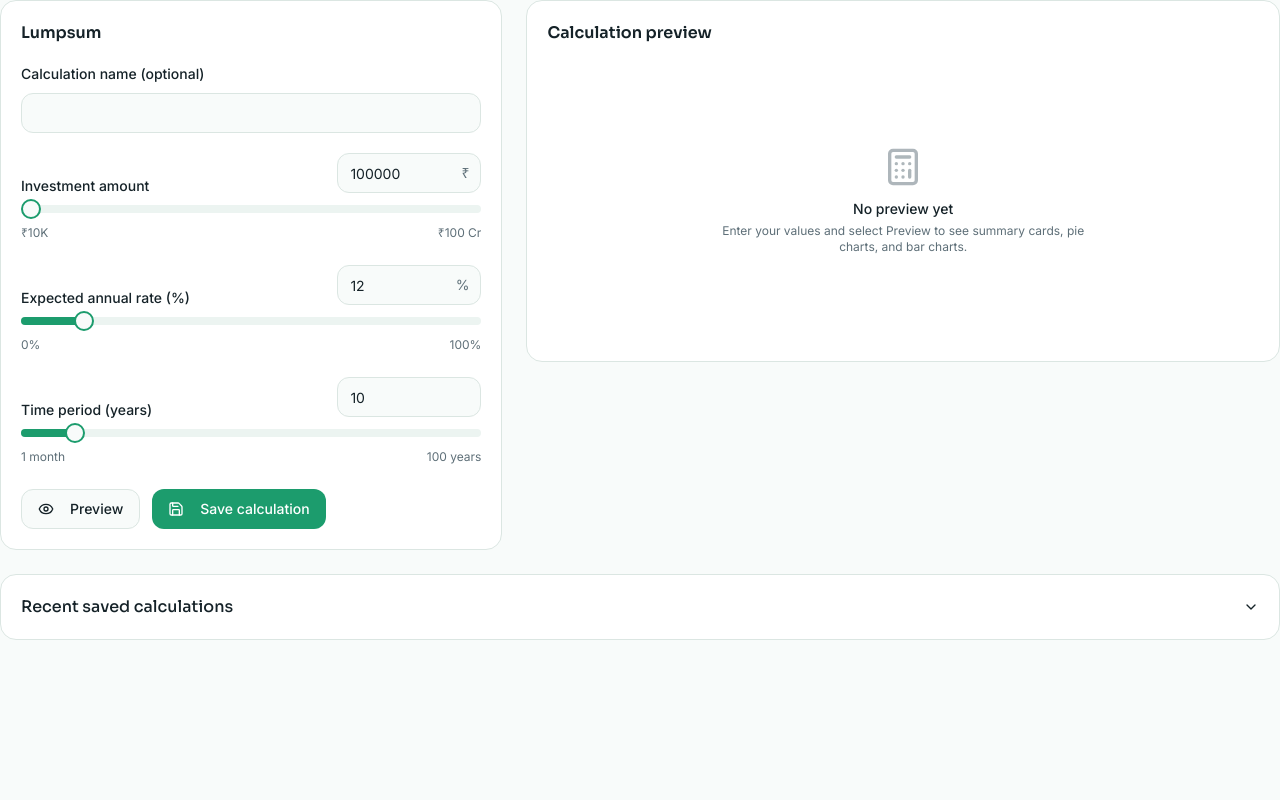
Test: CalculatorsModule › previews the selected calculator without saving it
The width and height of the screenshot is (1280, 800).
Step 1. Click the button "Recent saved calculations" → [127, 606], box [21, 595, 1259, 619]
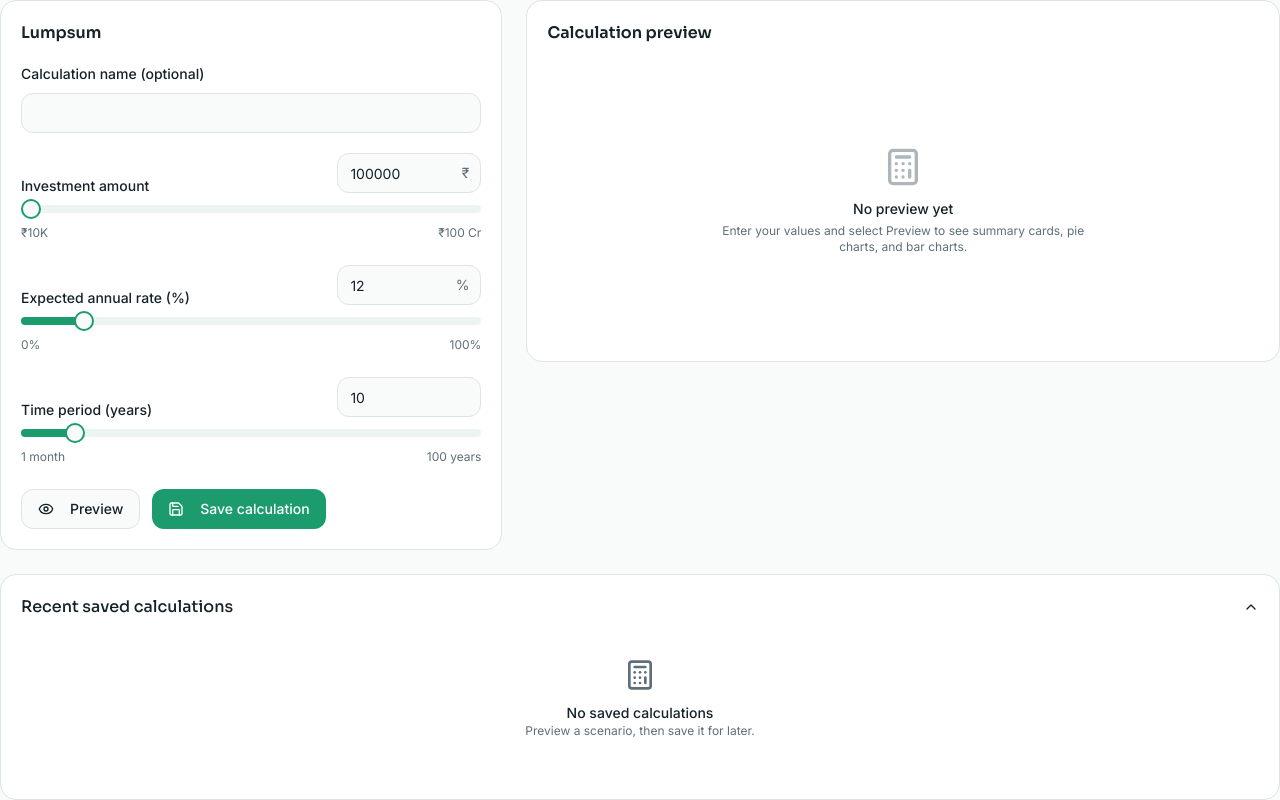
Now the text "No saved calculations" is shown, box [567, 704, 713, 721]
Step 2. Replace the text in the number field labelled "Investment amount" with "200000" → [409, 173], box [337, 153, 481, 193]
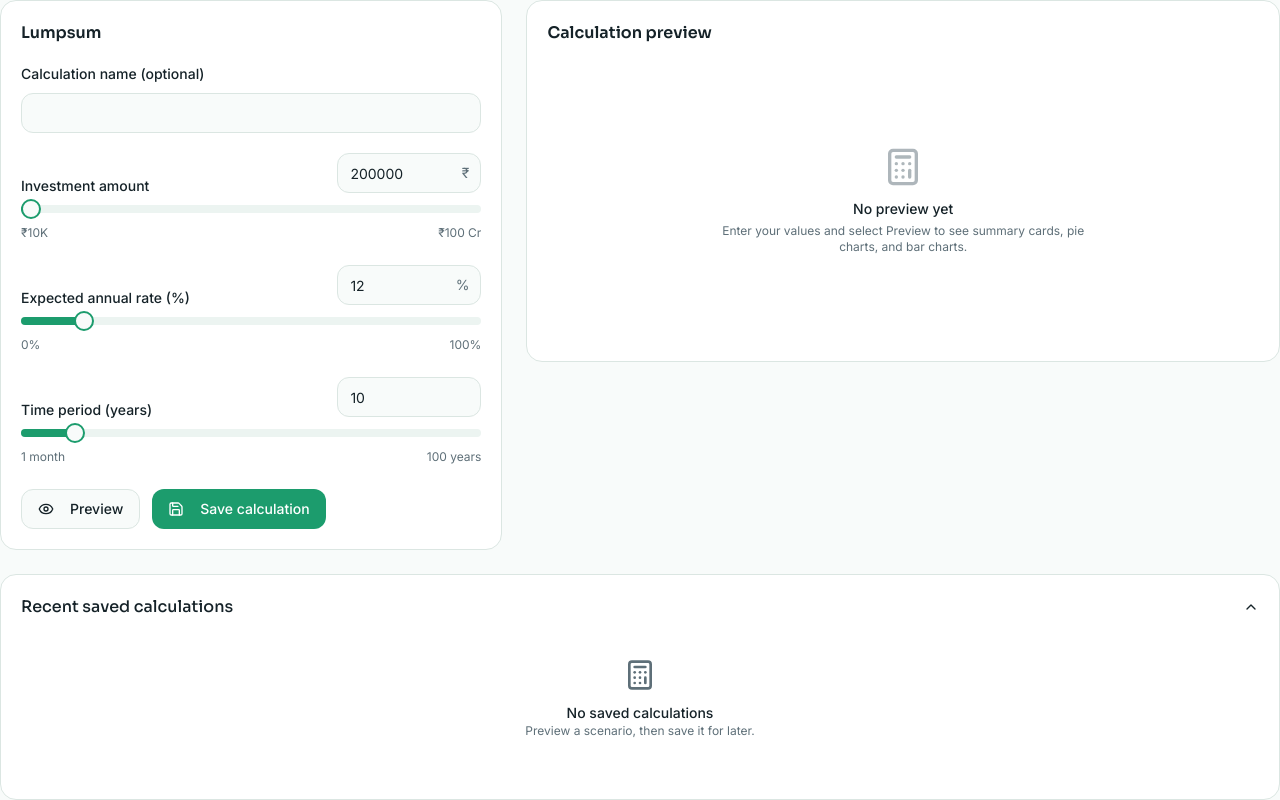
Step 3. Click the button "Preview" → [81, 509], box [21, 489, 140, 529]
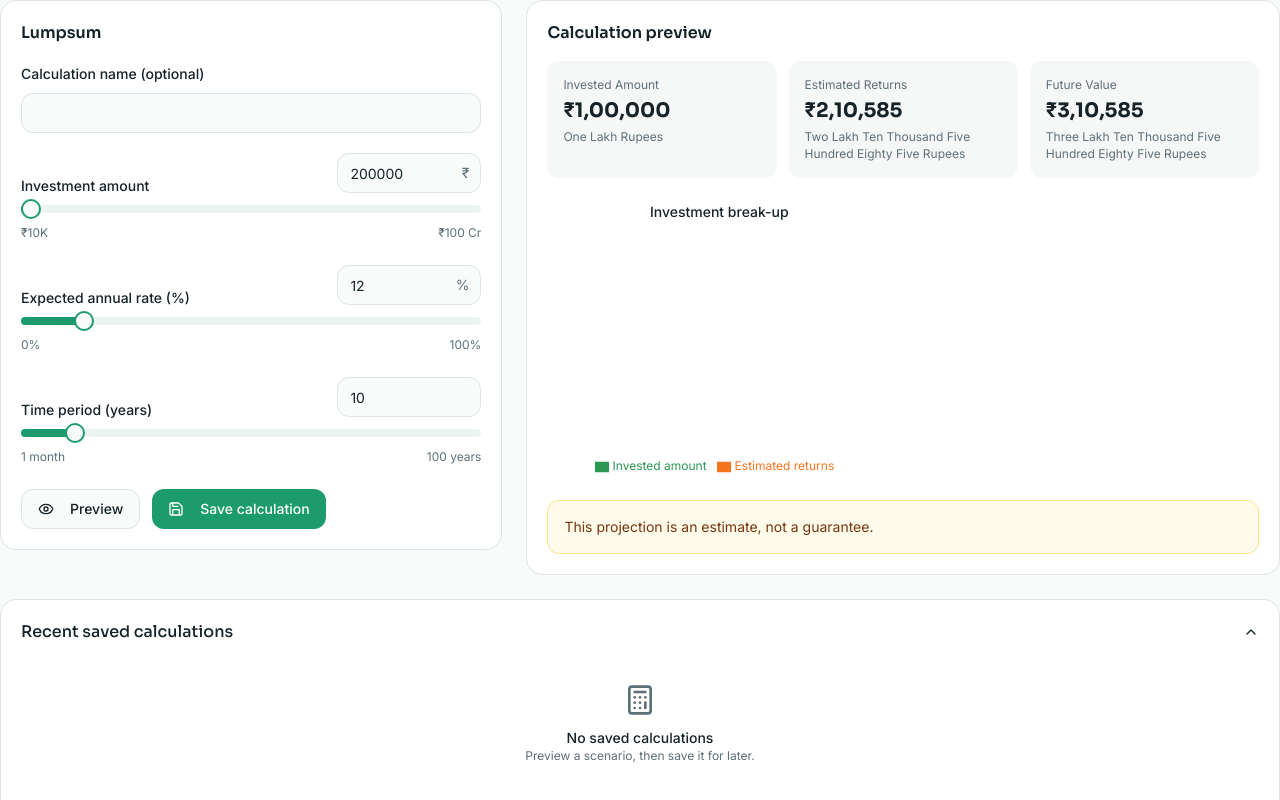
Expected: the heading "Calculation preview" is shown, [547, 21, 712, 45]
Now the text "₹3,10,585" is shown, box [1046, 98, 1144, 123]
Now the text "Three Lakh Ten Thousand Five Hundred Eighty Five Rupees" is shown, box [1046, 129, 1243, 162]
